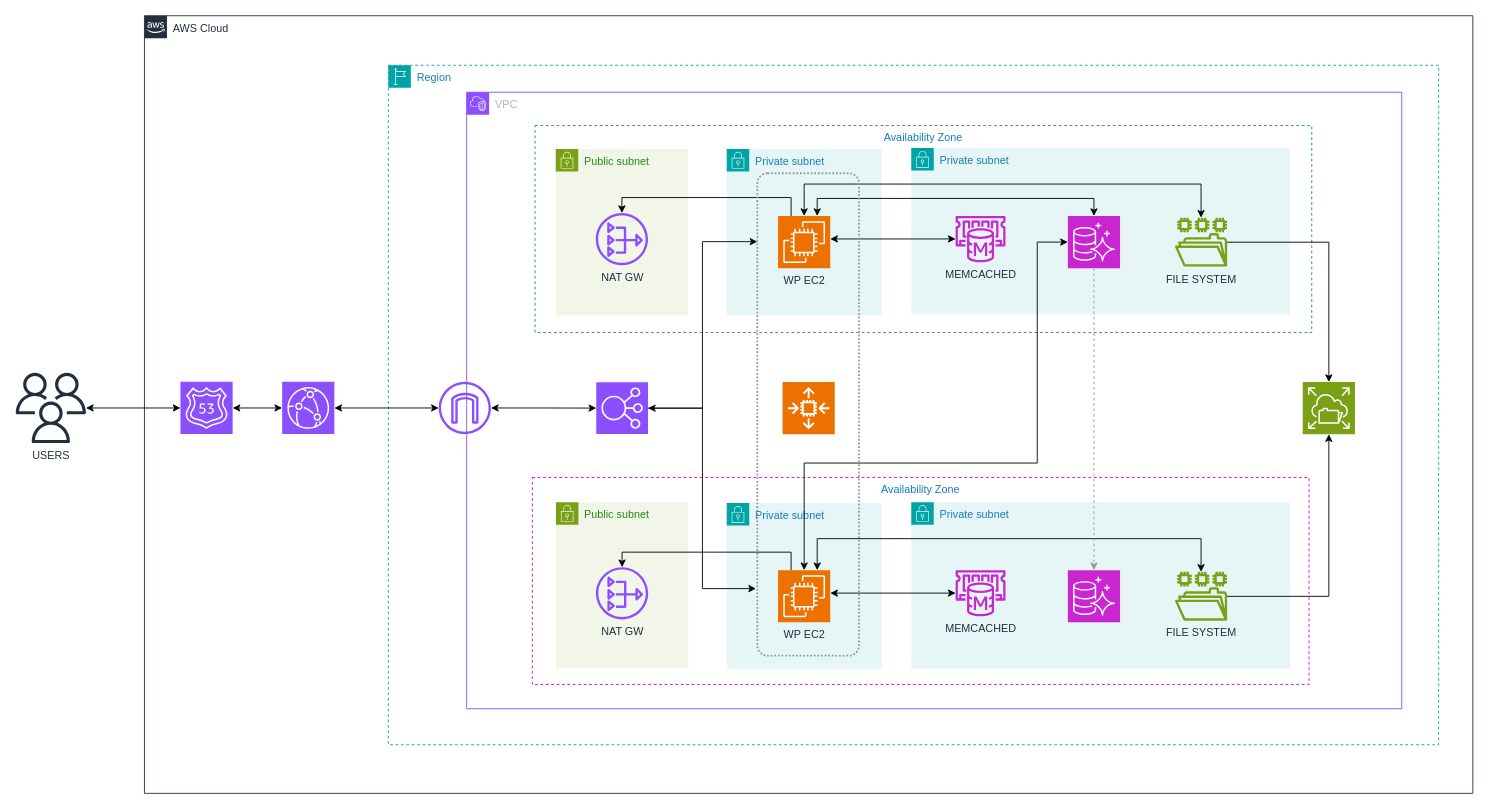
This 1489x809 diagram has some shape labels left out. The centre of each missing label's shape, as x and y in pixels:
"ASG" goes at (808,407).
"AURORA MYSQL MASTER" goes at (1093,241).
"AURORA MYSQL REPLICA" goes at (1093,595).
"CLOUDFRONT" goes at (307,407).
"EFS" goes at (1328,407).
"IGW" goes at (464,407).
"LOAD BALANCER" goes at (621,407).
"R53" goes at (206,407).
